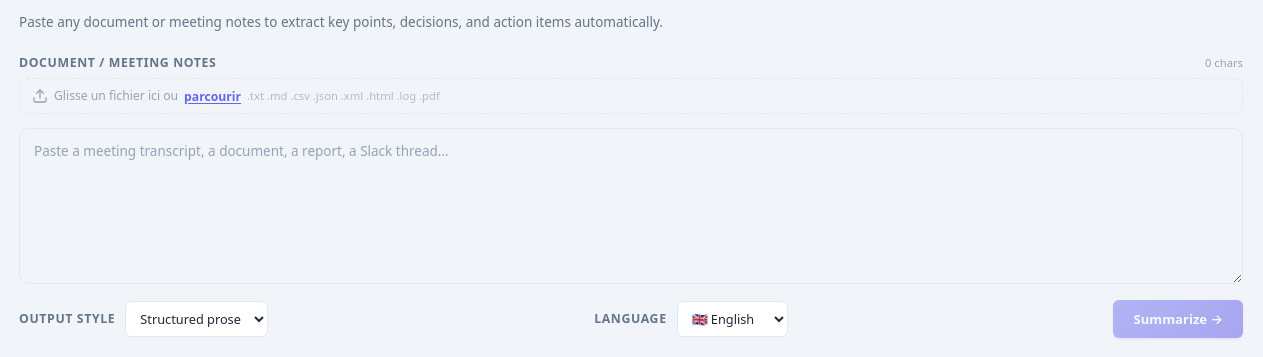
DocumentAnalyzer › enables submit when text is entered
The image size is (1263, 357).
Type "Meeting notes here" into the text box labelled "Document / meeting notes" at (631, 206), box [19,128,1243,284]
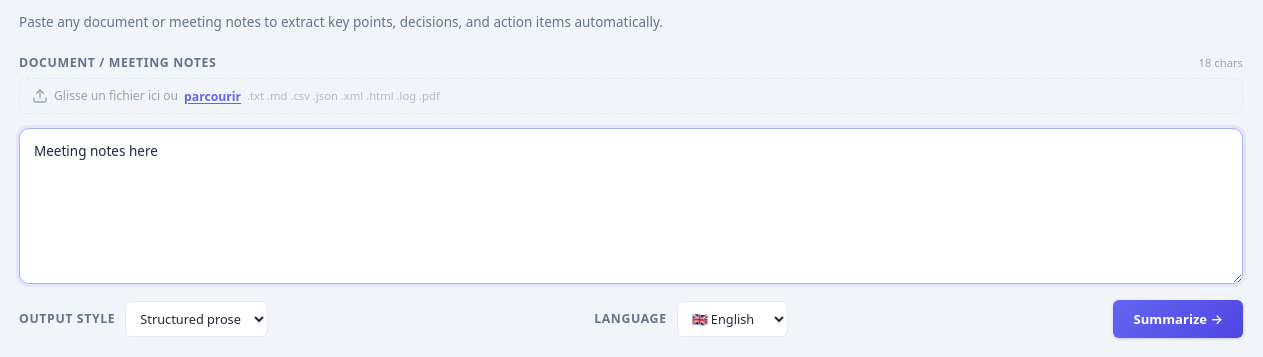
Result: the button "Summarize →" is enabled at [1114,300,1243,338]
